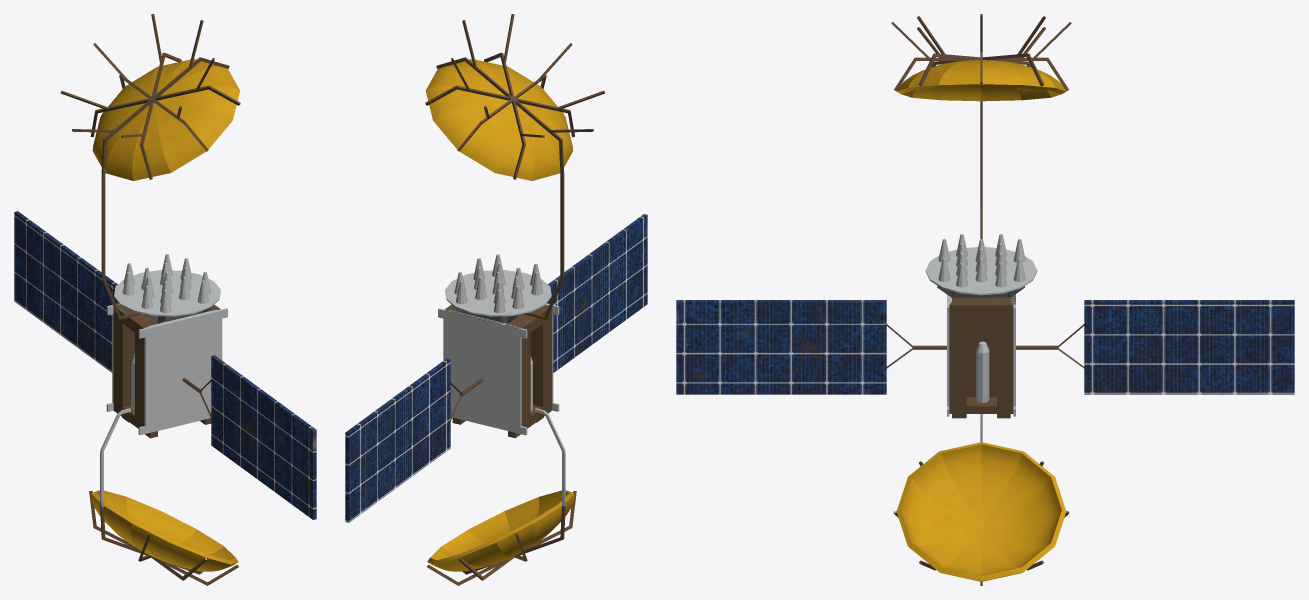
Rendered from MUOS_Satellite.glb.
The picture shows the model from 3 angles, left to right: view 1: azimuth 30°, elevation 25°; view 2: azimuth 150°, elevation 25°; view 3: azimuth 270°, elevation 25°; orthographic projection. The views are drawn at different scales.
Size of the model in its own units: 3.36 by 11.35 by 11.1.
1 material, 1 textured.
